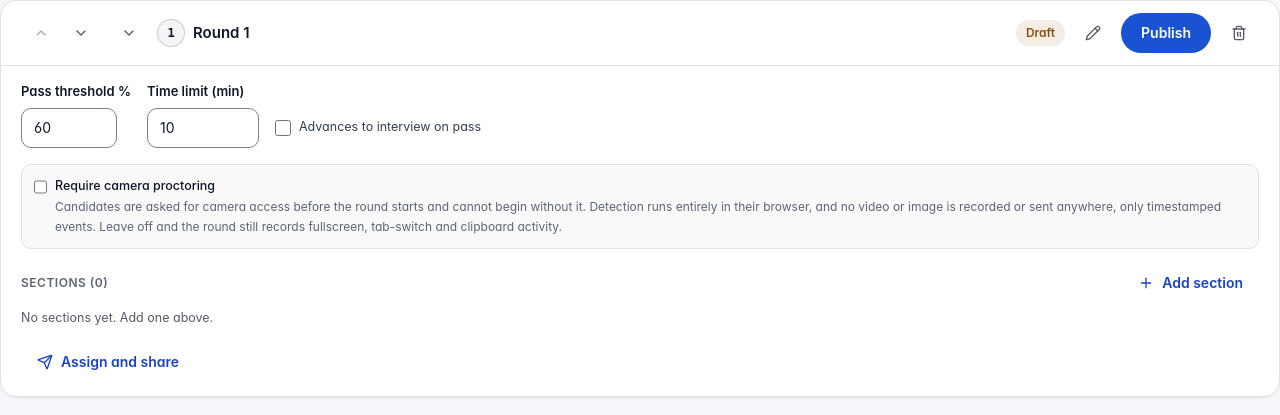
Scenario: round panel › refuses a time limit of 0 instead of clearing the limit (re-audit)
Replace the text in the number field named "round time limit in minutes" with "0" at point(203, 128), box [147,108,259,148]
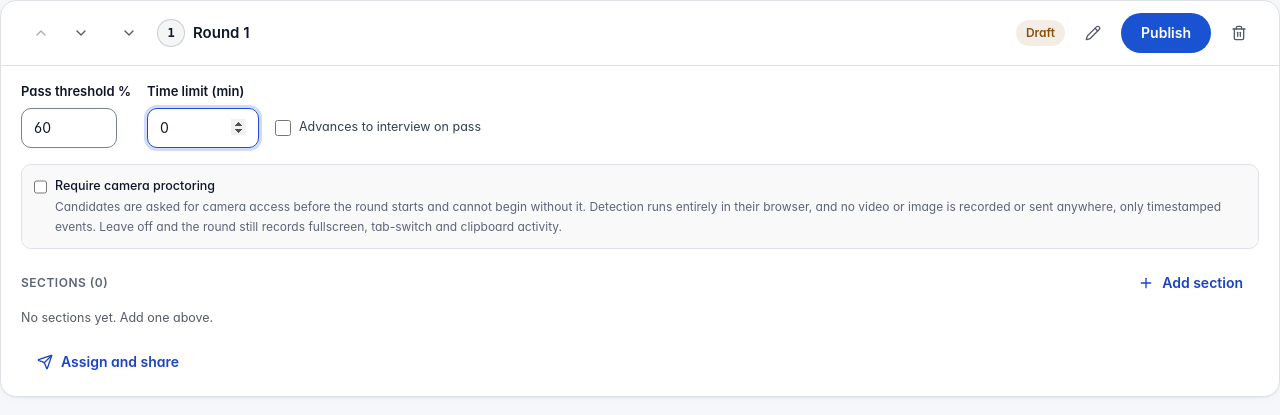
Press Tab
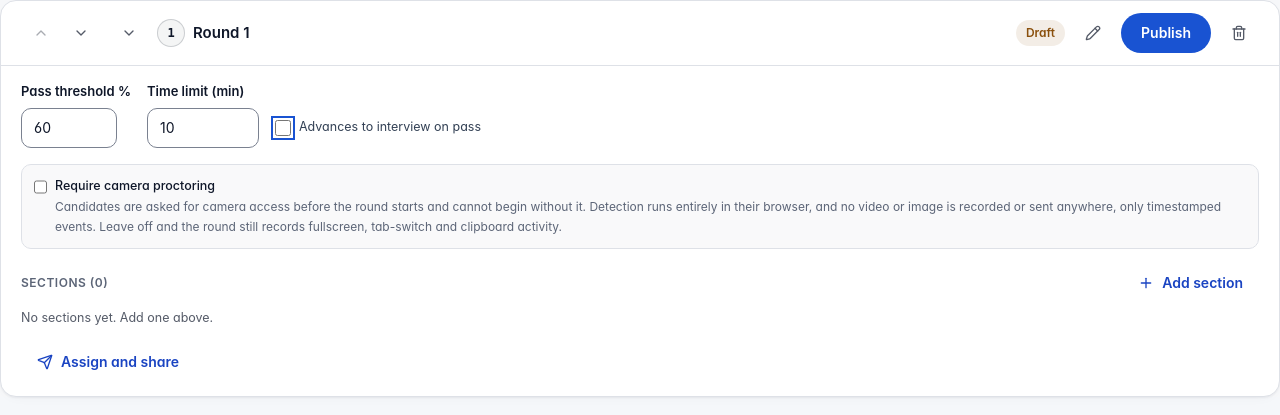
Expected: the number field named "round time limit in minutes" holds "10", [147,108,259,148]
